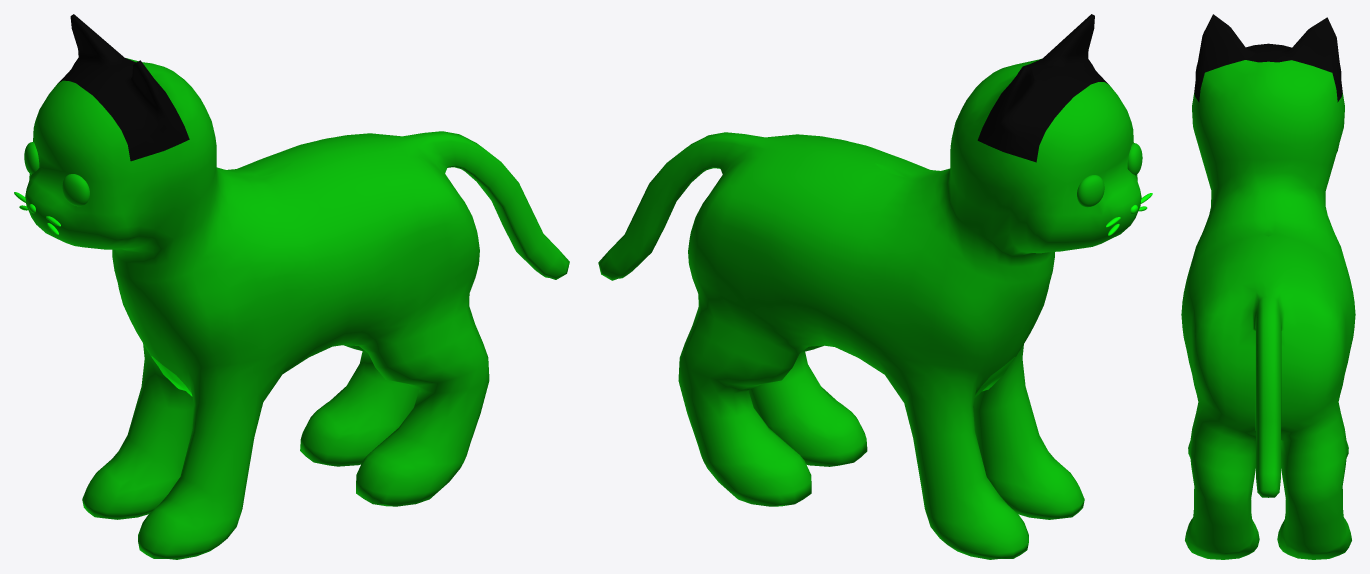
Rendered from cat.fbx.
The picture shows the model from 3 angles, left to right: view 1: azimuth 30°, elevation 25°; view 2: azimuth 150°, elevation 25°; view 3: azimuth 270°, elevation 25°; orthographic projection. The views are drawn at different scales.
Parts seen in each view (by area): view 1: polySurface13; view 2: polySurface13; view 3: polySurface13.
Part boxes in pixels (x1,y1,x2,y2): polySurface13: (14, 14, 569, 559); polySurface13: (598, 14, 1152, 559); polySurface13: (1181, 14, 1355, 559).
Bounding box in the file's own units: 3.46 × 3.09 × 1.14.
